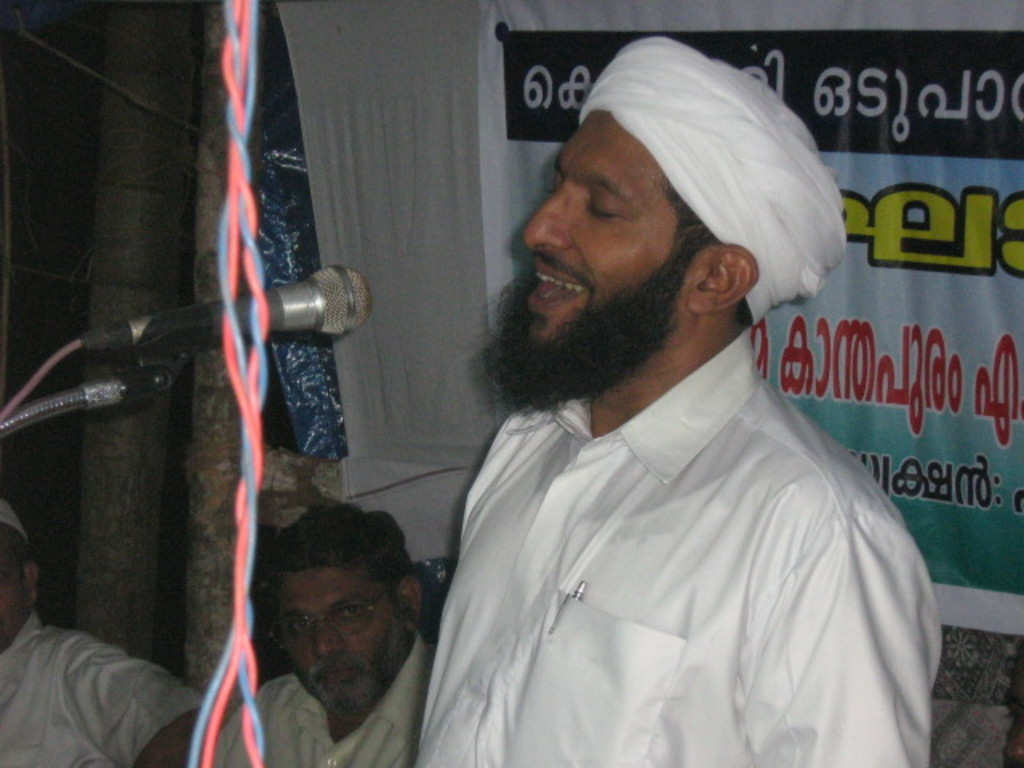Person: (995, 641, 1024, 768)
